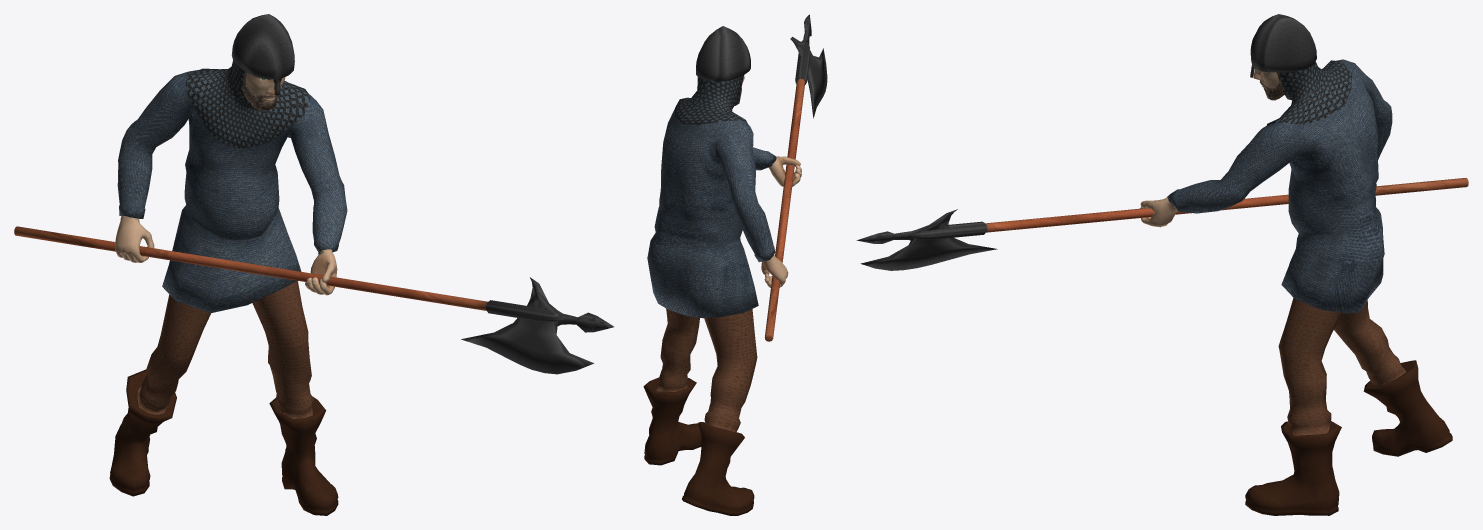
The model's file is wache_frame143.obj.
The picture shows the model from 3 angles, left to right: view 1: azimuth 30°, elevation 25°; view 2: azimuth 150°, elevation 25°; view 3: azimuth 270°, elevation 25°; orthographic projection. The views are drawn at different scales.
Parts seen in each view (by area): view 1: wache_body_richter_body_mesh.001, hellebarde_richter_body_mesh.002; view 2: wache_body_richter_body_mesh.001, hellebarde_richter_body_mesh.002; view 3: wache_body_richter_body_mesh.001, hellebarde_richter_body_mesh.002.
Part boxes in pixels (x1,y1,x2,y2): wache_body_richter_body_mesh.001: (109, 14, 347, 515); hellebarde_richter_body_mesh.002: (14, 226, 613, 374); wache_body_richter_body_mesh.001: (643, 26, 801, 515); hellebarde_richter_body_mesh.002: (764, 14, 827, 341); wache_body_richter_body_mesh.001: (1140, 14, 1452, 515); hellebarde_richter_body_mesh.002: (856, 178, 1468, 270).
Size of the model in its own units: 1.12 by 1.91 by 2.25.
Materials: 2 (2 with a texture image).
